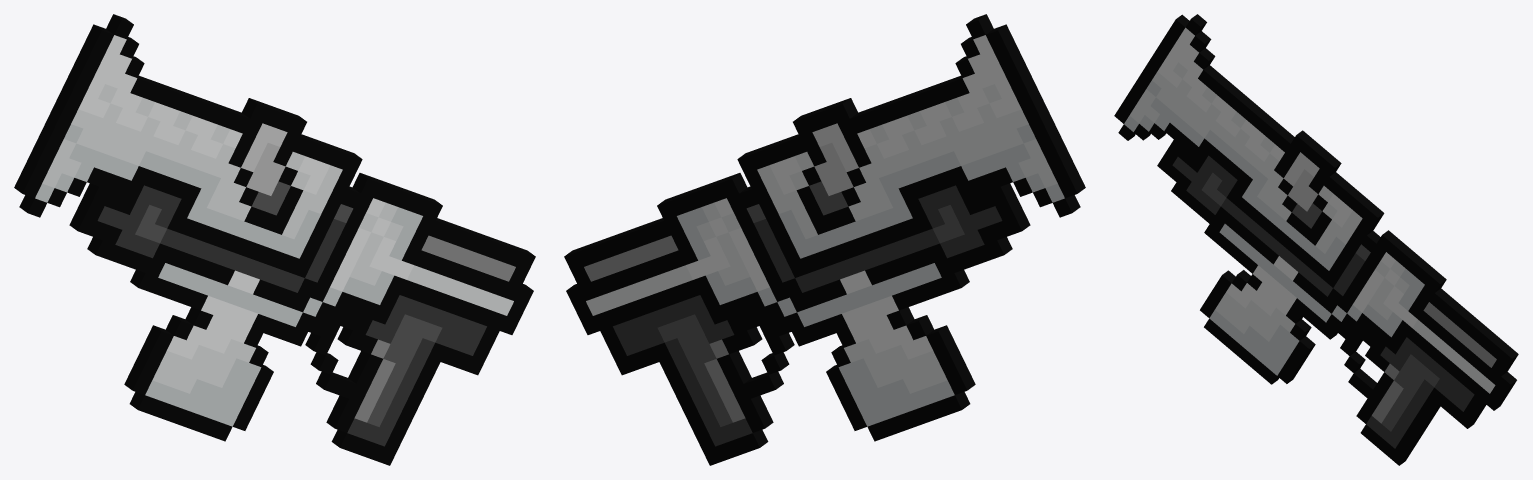
File: White Heavy Paintball Gun.glb
The picture shows the model from 3 angles, left to right: view 1: azimuth 30°, elevation 25°; view 2: azimuth 150°, elevation 25°; view 3: azimuth 330°, elevation 25°; orthographic projection. The views are drawn at different scales.
Visible parts, largest first — view 1: Untitled; view 2: Untitled; view 3: Untitled.
Boxes of the visible parts, box(x1,y1,x2,y2) form: Untitled: box(14, 14, 535, 465); Untitled: box(564, 14, 1085, 465); Untitled: box(1114, 14, 1518, 465).
Bounding box in the file's own units: 14.22 × 13.53 × 0.4.
1 material, 1 textured.
